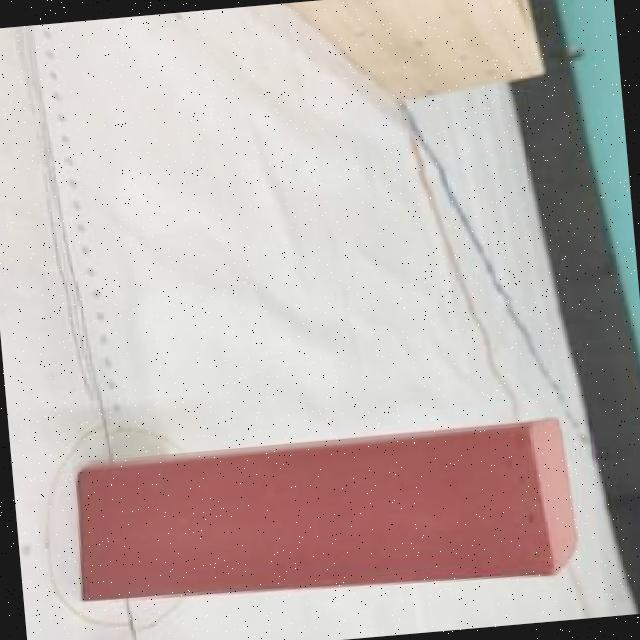redbox: (69, 415, 583, 612)
